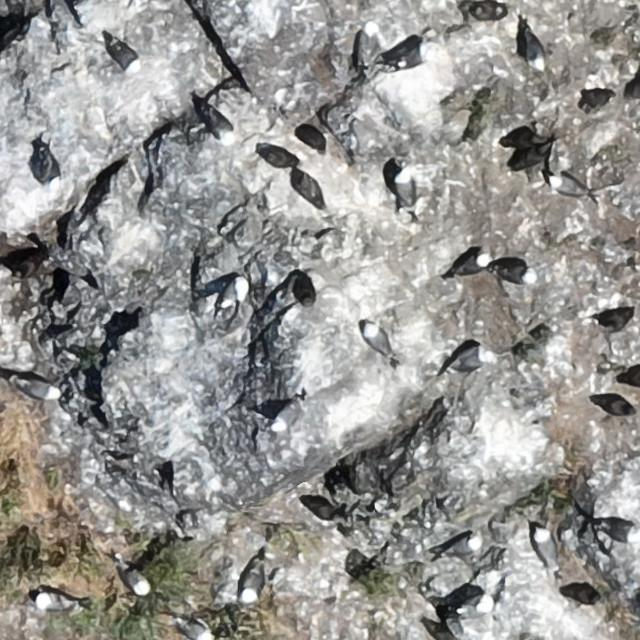umineko: (386, 44, 432, 76), (444, 343, 493, 373), (597, 514, 640, 546), (34, 144, 62, 192), (219, 275, 246, 319), (354, 21, 376, 72), (500, 258, 538, 287), (457, 594, 493, 620), (444, 535, 480, 560), (16, 378, 57, 399), (122, 565, 149, 596), (110, 43, 140, 70), (271, 401, 299, 429), (536, 531, 557, 566), (365, 325, 388, 355), (524, 33, 543, 69), (240, 568, 260, 601), (36, 592, 71, 610), (180, 620, 211, 640), (598, 397, 630, 416), (458, 255, 488, 275), (550, 178, 581, 197), (397, 172, 412, 204)
